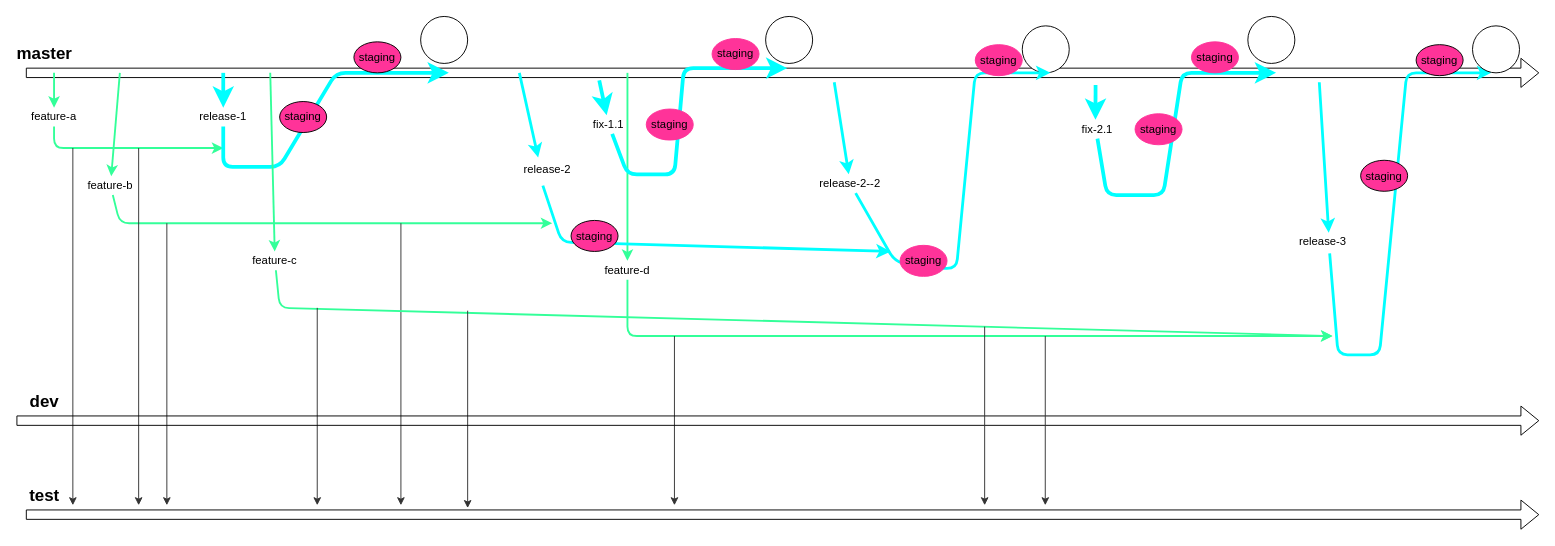
Image size: 1555x546. Some labels were removed from this diagram. The centre of each missing label's shape, as x and y in pixels:
"v1" goes at (444,39).
"v1.1" goes at (789,39).
"v2" goes at (1045,49).
"v2.1" goes at (1271,39).
"v3" goes at (1496,49).
